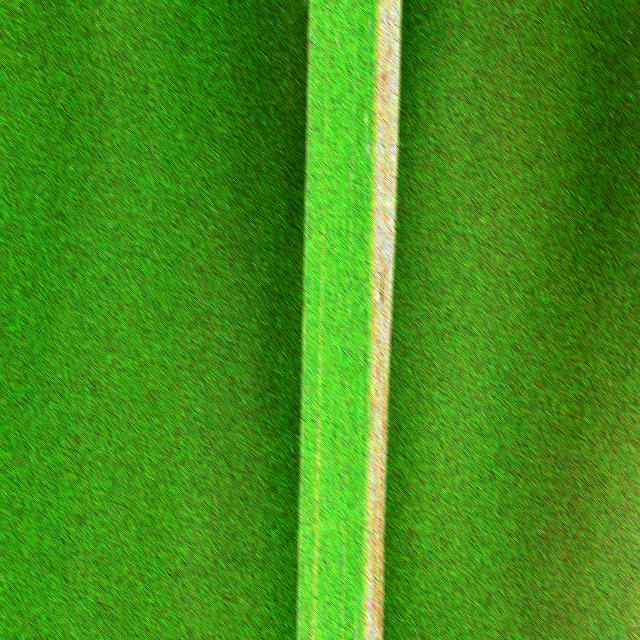BLB: (365, 2, 400, 640)
